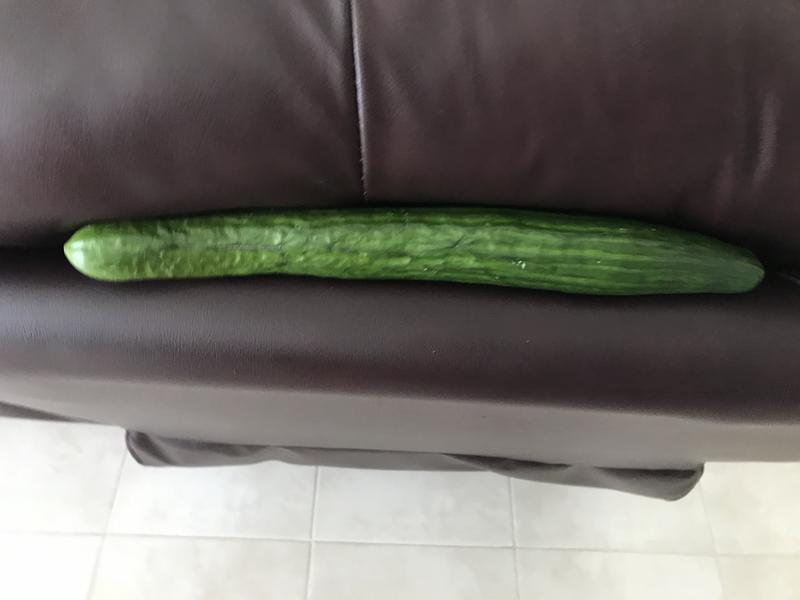cucumber: (58, 202, 776, 312)
